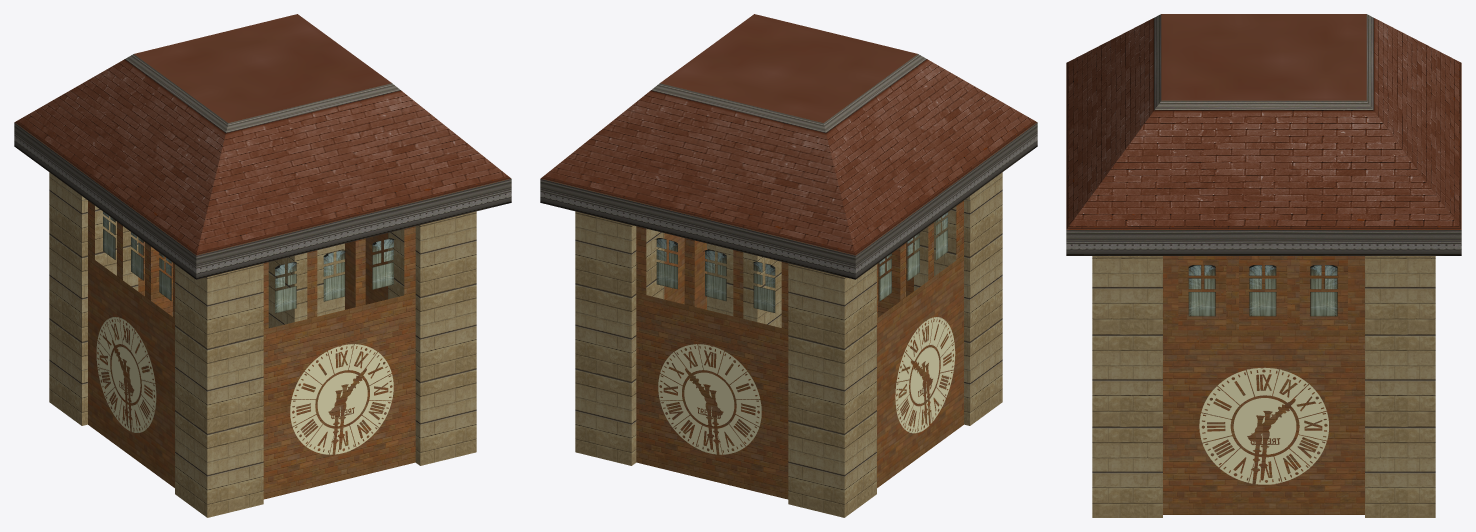
Rendered from tower_10x10_roof.fbx.
The picture shows the model from 3 angles, left to right: view 1: azimuth 30°, elevation 25°; view 2: azimuth 150°, elevation 25°; view 3: azimuth 270°, elevation 25°; orthographic projection. The views are drawn at different scales.
Visible parts, largest first — view 1: tower_10x10_roof; view 2: tower_10x10_roof; view 3: tower_10x10_roof.
Boxes of the visible parts, x1=… form: tower_10x10_roof: x1=14, y1=14, x2=511, y2=517; tower_10x10_roof: x1=540, y1=14, x2=1037, y2=517; tower_10x10_roof: x1=1066, y1=14, x2=1461, y2=517.
Bounding box in the file's own units: 1104 × 1199 × 1104.
